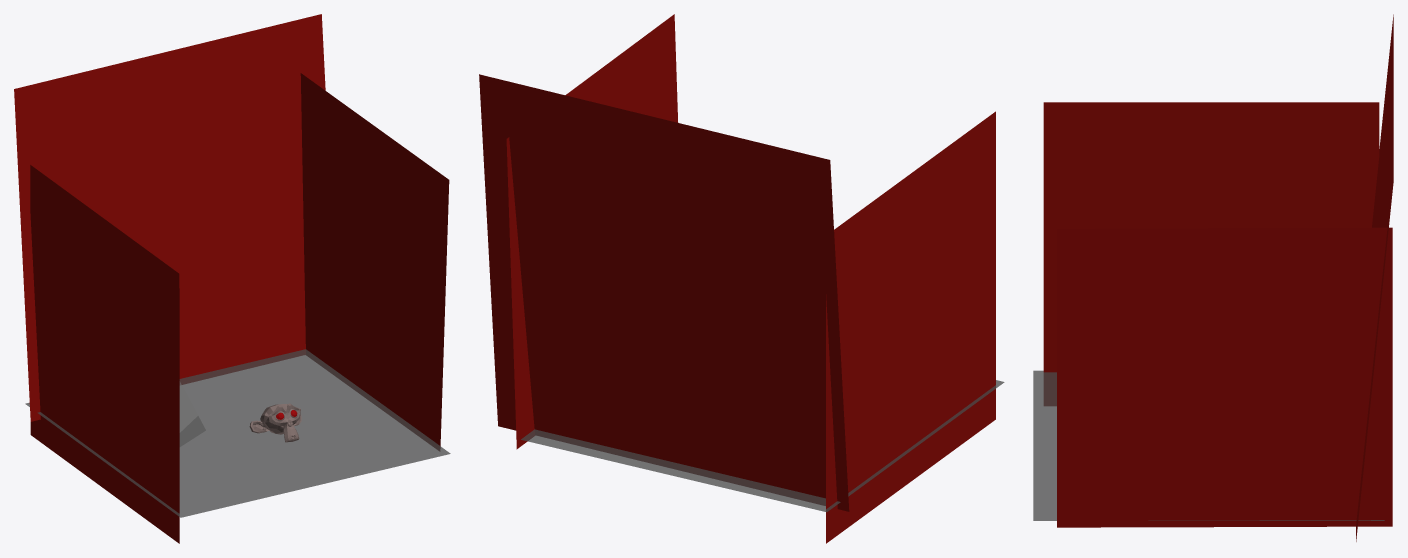
File: boxscene.obj
3 views of the same model, side by side, from view 1: azimuth 30°, elevation 25°; view 2: azimuth 150°, elevation 25°; view 3: azimuth 270°, elevation 25° (orthographic). The views are drawn at different scales.
Visible parts, largest first — view 1: Plane.003, Plane.001, Plane, Plane.002, Suzanne.001, Plane.004; view 2: Plane.003, Plane, Plane.001, Plane.002; view 3: Plane.001, Plane, Plane.002, Plane.003.
Boxes of the visible parts, box(x1,y1,x2,y2) form: Plane.003: box(14, 14, 325, 421); Plane.001: box(300, 73, 449, 450); Plane: box(30, 165, 179, 543); Plane.002: box(25, 349, 450, 517); Suzanne.001: box(249, 403, 301, 442); Plane.004: box(179, 381, 197, 432); Plane.003: box(479, 74, 849, 511); Plane: box(826, 111, 995, 543); Plane.001: box(506, 14, 678, 449); Plane.002: box(521, 380, 1004, 512); Plane.001: box(1057, 227, 1392, 527); Plane: box(1043, 102, 1379, 405); Plane.002: box(1033, 370, 1384, 520); Plane.003: box(1356, 14, 1393, 541).
Bounding box in the file's own units: 0.6134 × 0.6545 × 0.5521.
